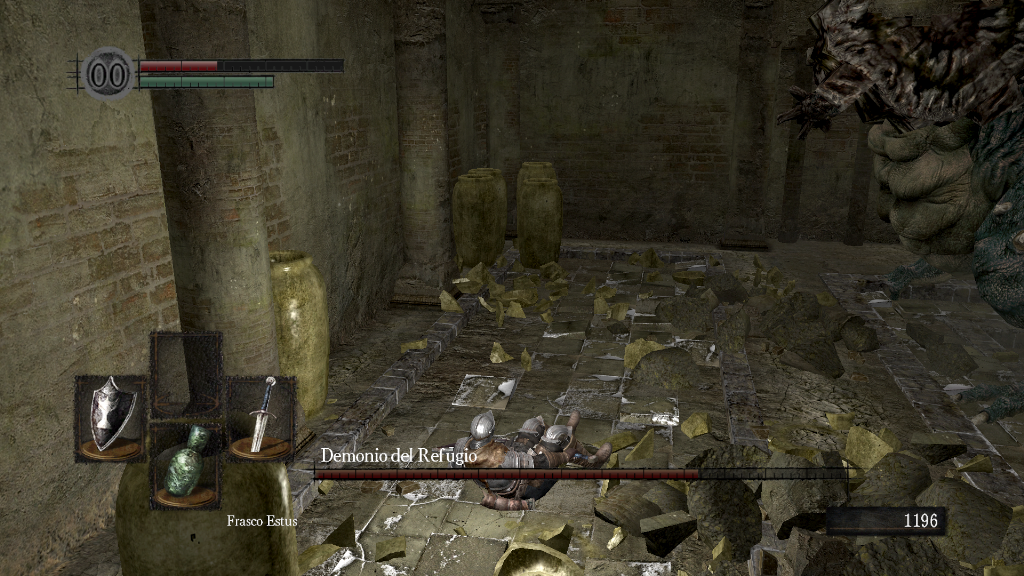asylumDemon: (774, 1, 1024, 427)
bossHP: (314, 469, 847, 479)
health: (138, 58, 343, 71)
humanity: (80, 45, 136, 102)
player: (449, 410, 612, 513)
souls: (825, 506, 945, 536)
stamina: (138, 74, 274, 88)
